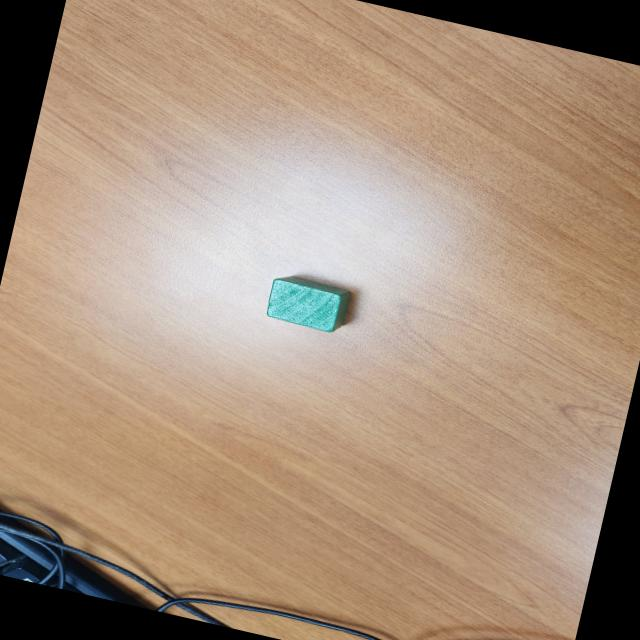green: (257, 270, 354, 336)
